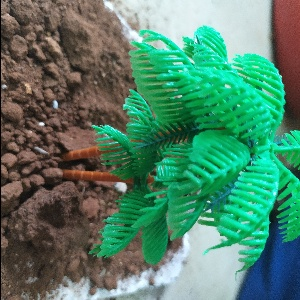plant: (77, 28, 294, 255)
